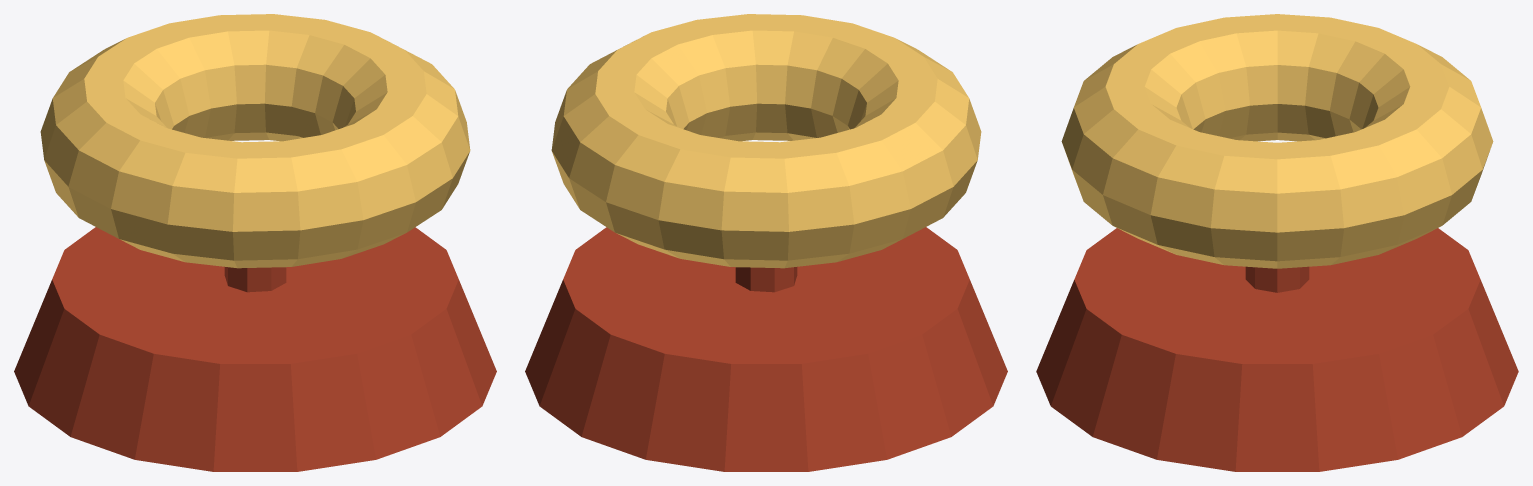
File: lantern-hat.glb
The picture shows the model from 3 angles, left to right: view 1: azimuth 30°, elevation 25°; view 2: azimuth 150°, elevation 25°; view 3: azimuth 270°, elevation 25°; orthographic projection.
Visible parts, largest first — view 1: lantern-crown, lantern-ring, lantern-support; view 2: lantern-crown, lantern-ring, lantern-support; view 3: lantern-crown, lantern-ring, lantern-support.
Boxes of the visible parts, bbox=[...] form: lantern-crown: bbox=[14, 227, 496, 471]; lantern-ring: bbox=[40, 14, 470, 268]; lantern-support: bbox=[224, 267, 286, 292]; lantern-crown: bbox=[525, 227, 1007, 471]; lantern-ring: bbox=[551, 14, 981, 268]; lantern-support: bbox=[735, 267, 797, 292]; lantern-crown: bbox=[1036, 228, 1518, 471]; lantern-ring: bbox=[1061, 14, 1493, 268]; lantern-support: bbox=[1245, 266, 1309, 292].
Bounding box in the file's own units: 0.3742 × 0.2476 × 0.38.
